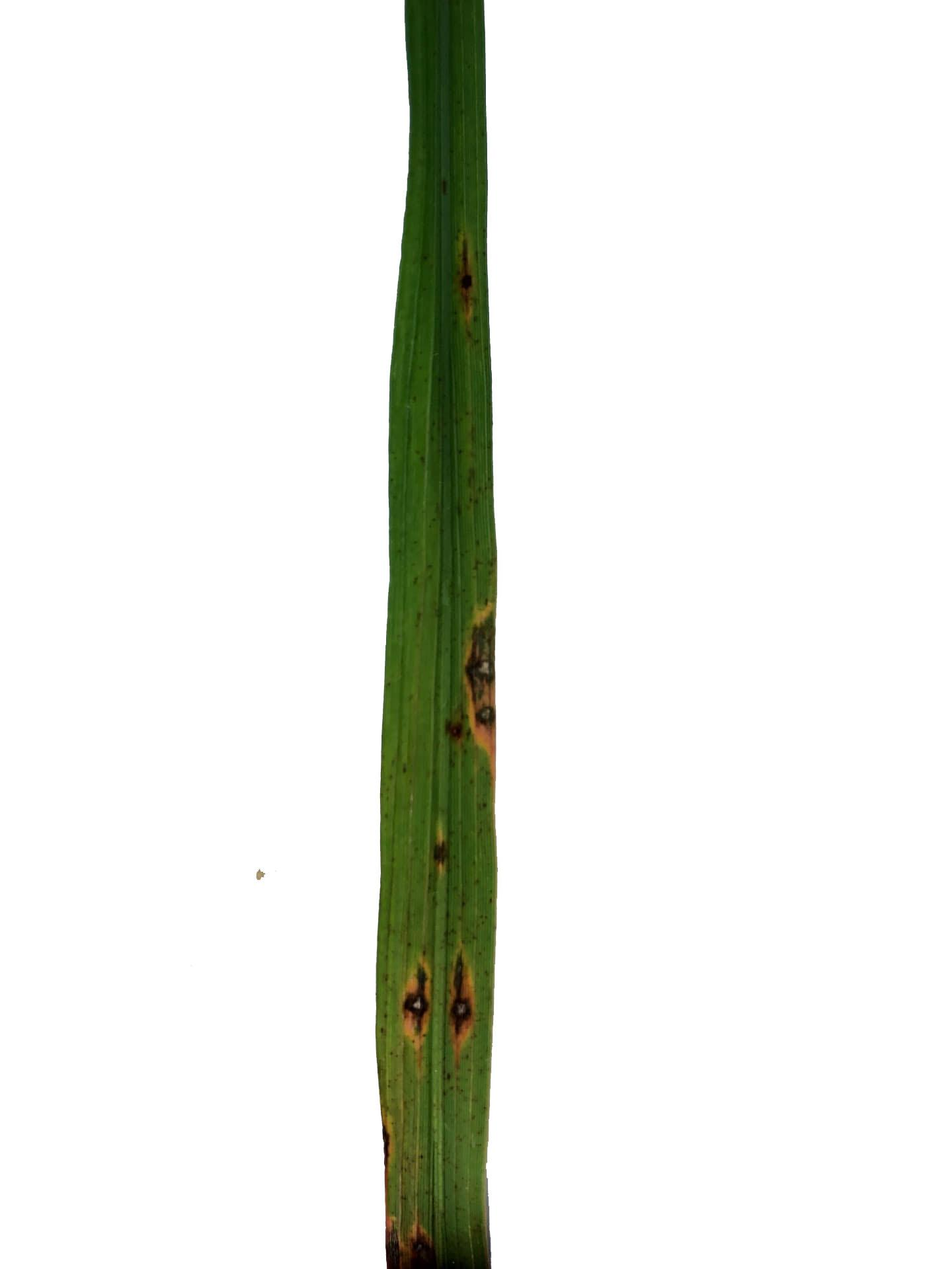Rice blast: (457, 596, 496, 751), (443, 936, 481, 1048), (396, 959, 437, 1043), (386, 1206, 439, 1269), (455, 230, 480, 316)
